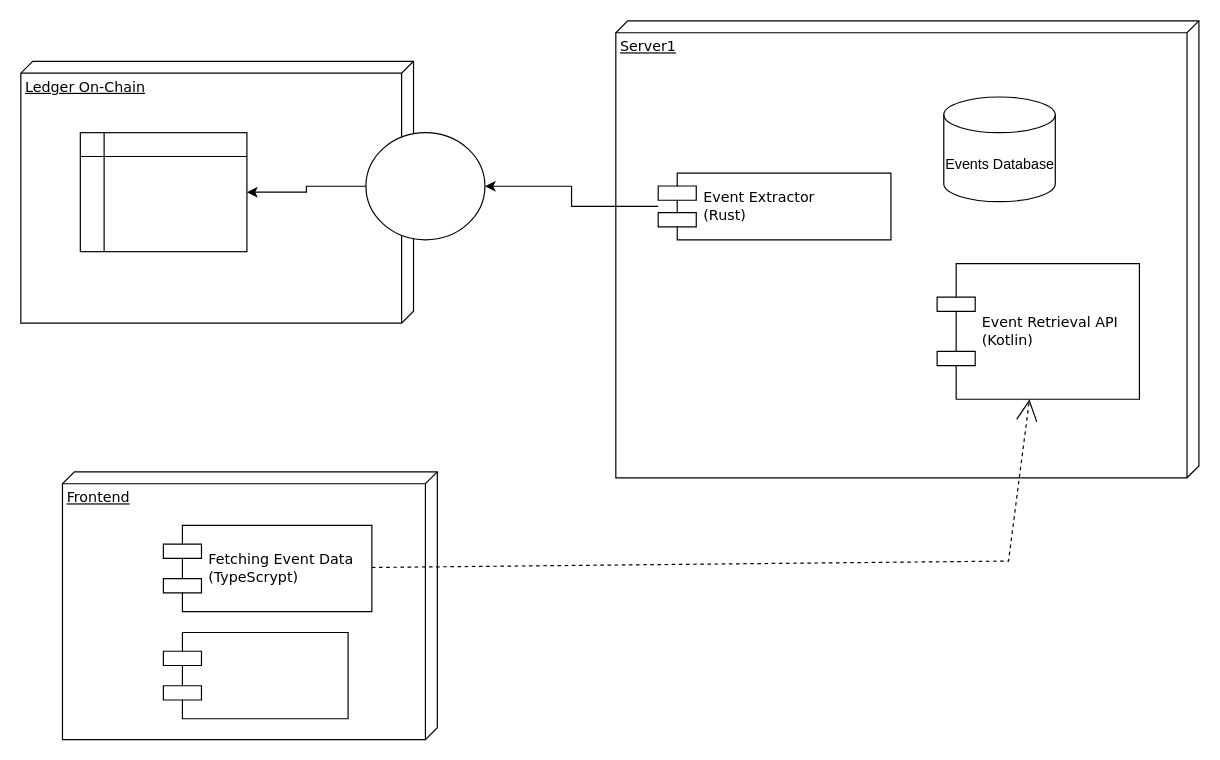
The diagram is 1220 pixels wide and 760 high, and some of its shapes have lost their labels. The shapes that lost their labels are listed below. From the top down, each one's centre as x and y in pixels, then its label:
the point at 163,191: On-Chain Data
the point at 425,185: Transaction Stream Endpoint
the point at 255,675: Graph Rendering (Javascript)
